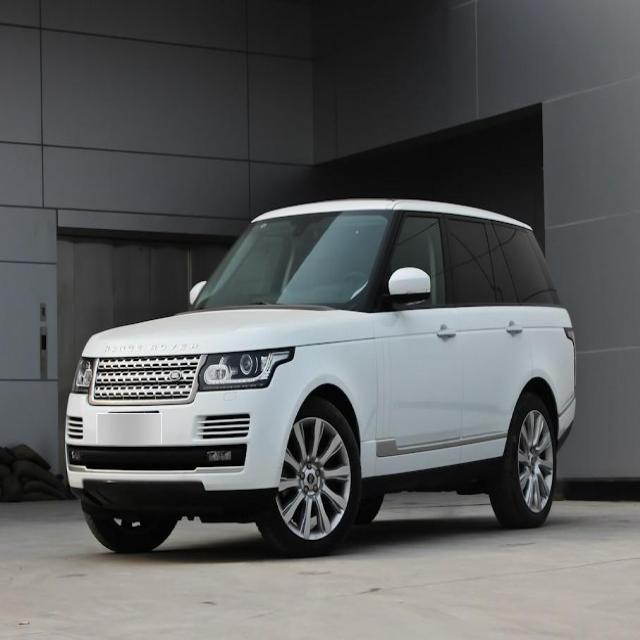back_left_side_light: (561, 322, 579, 374)
door: (444, 213, 528, 456)
front_bumper: (63, 386, 289, 508)
front_glass: (197, 208, 388, 308)
front_left_side_door: (370, 204, 463, 463)
front_left_side_light: (195, 342, 298, 390)
front_left_side_mirror: (386, 265, 432, 308)
front_right_side_light: (70, 349, 96, 396)
front_right_side_mirror: (188, 276, 206, 308)
wheel: (257, 399, 357, 556), (492, 394, 556, 526)
